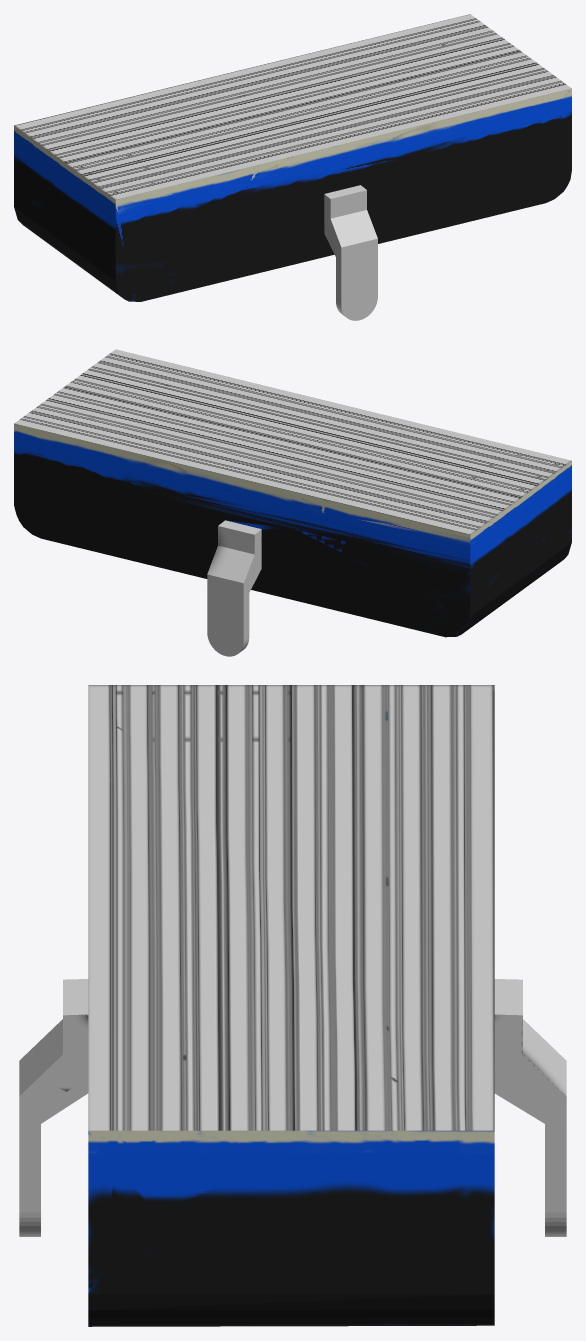
Rendered from body_2021.dae.
3 renders of one model, top to bottom at view 1: azimuth 30°, elevation 25°; view 2: azimuth 150°, elevation 25°; view 3: azimuth 270°, elevation 25°, orthographic. The views are drawn at different scales.
Visible parts, largest first — view 1: Body; view 2: Body; view 3: Body.
Part boxes in pixels (x1=…): Body: x1=14, y1=14, x2=571, y2=320; Body: x1=14, y1=349, x2=571, y2=656; Body: x1=19, y1=685, x2=566, y2=1326.
Size of the model in its own units: 0.6305 by 0.3273 by 0.2155.
Materials: 1 (1 with a texture image).
